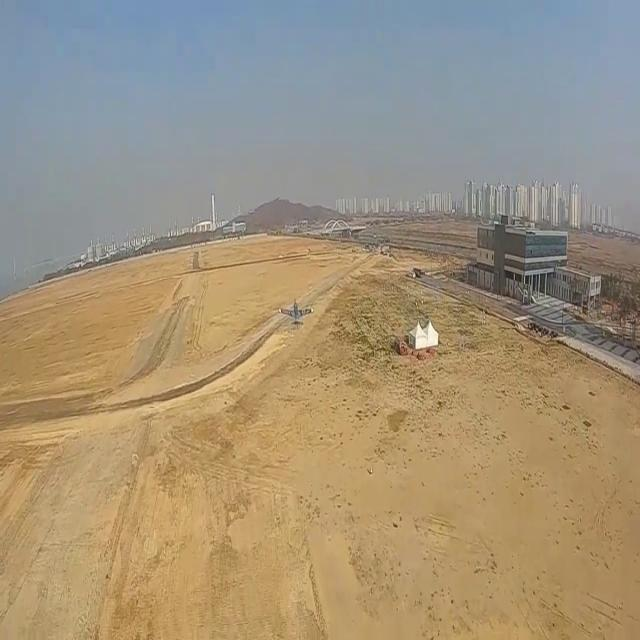iha: (278, 298, 314, 326)
